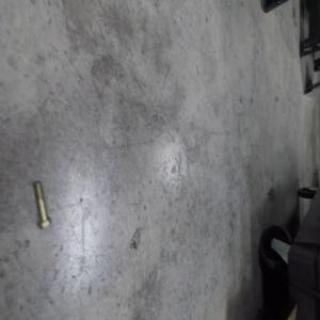Bolttrack_idkeyframe: (30, 178, 50, 229)
